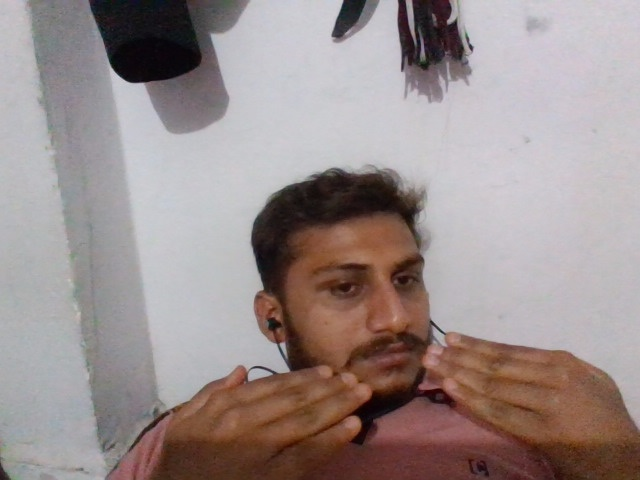Thanks: (150, 314, 640, 480)
